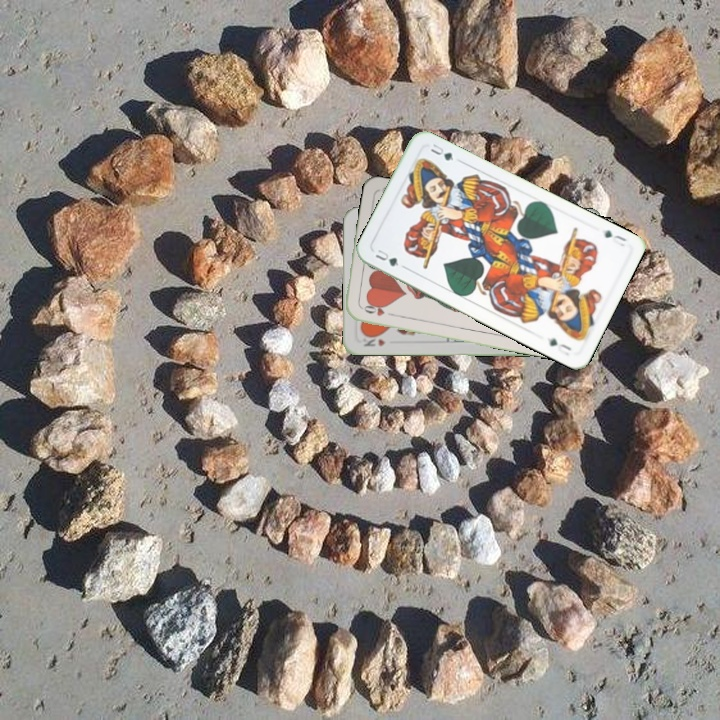GU: (371, 245, 401, 269), (600, 226, 629, 249)
HK: (359, 331, 388, 349)
HO: (356, 301, 396, 319)
